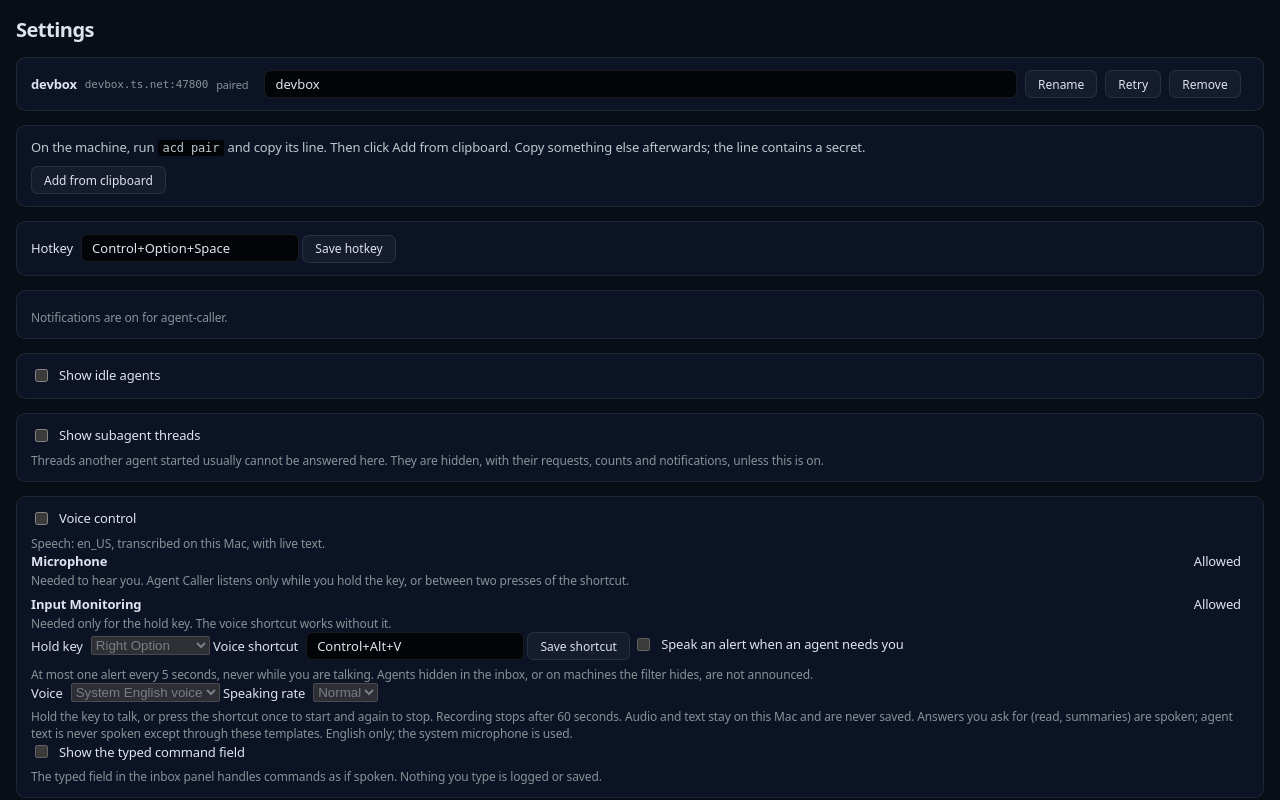
Test: rename and remove
Replace the text in the field named "Name for devbox" with "build box". click: (641, 84)
box: [264,70,1017,98]
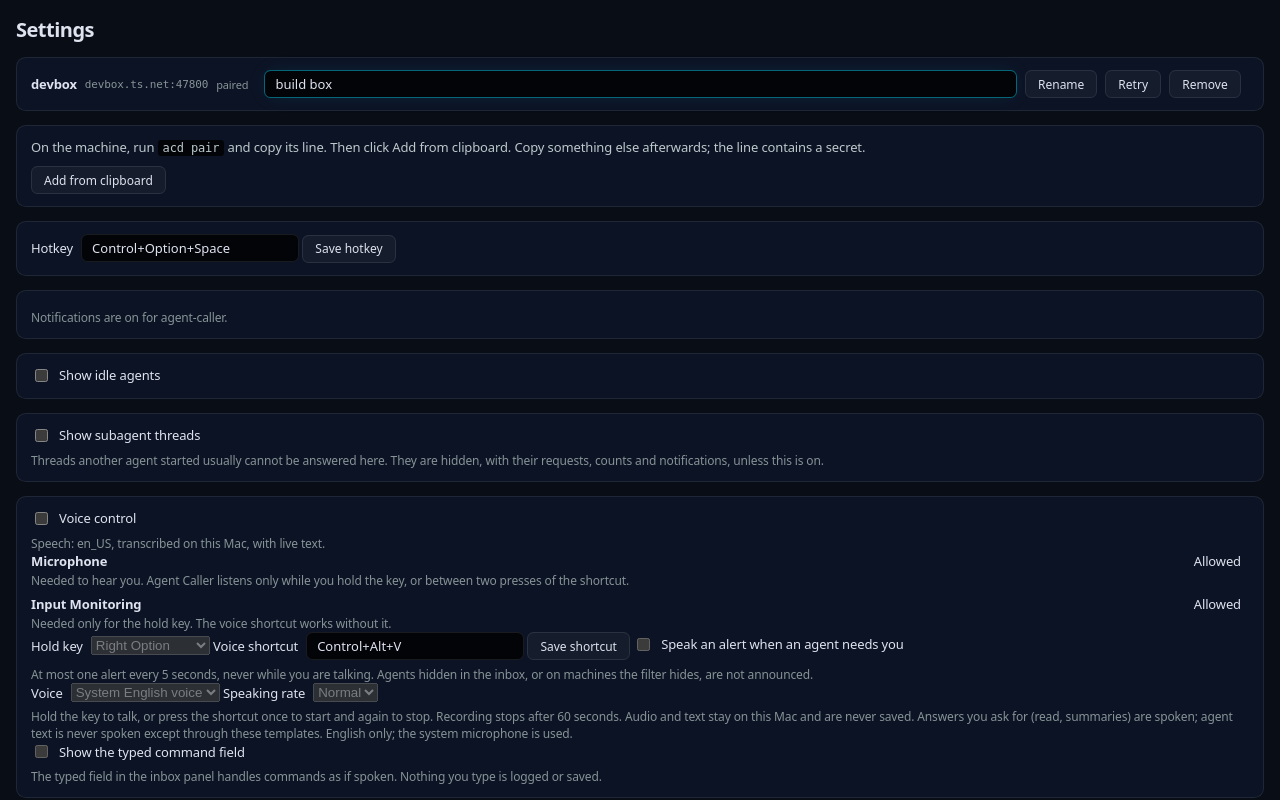
Click the button "Rename". click: (1061, 84)
box: [1025,70,1097,98]
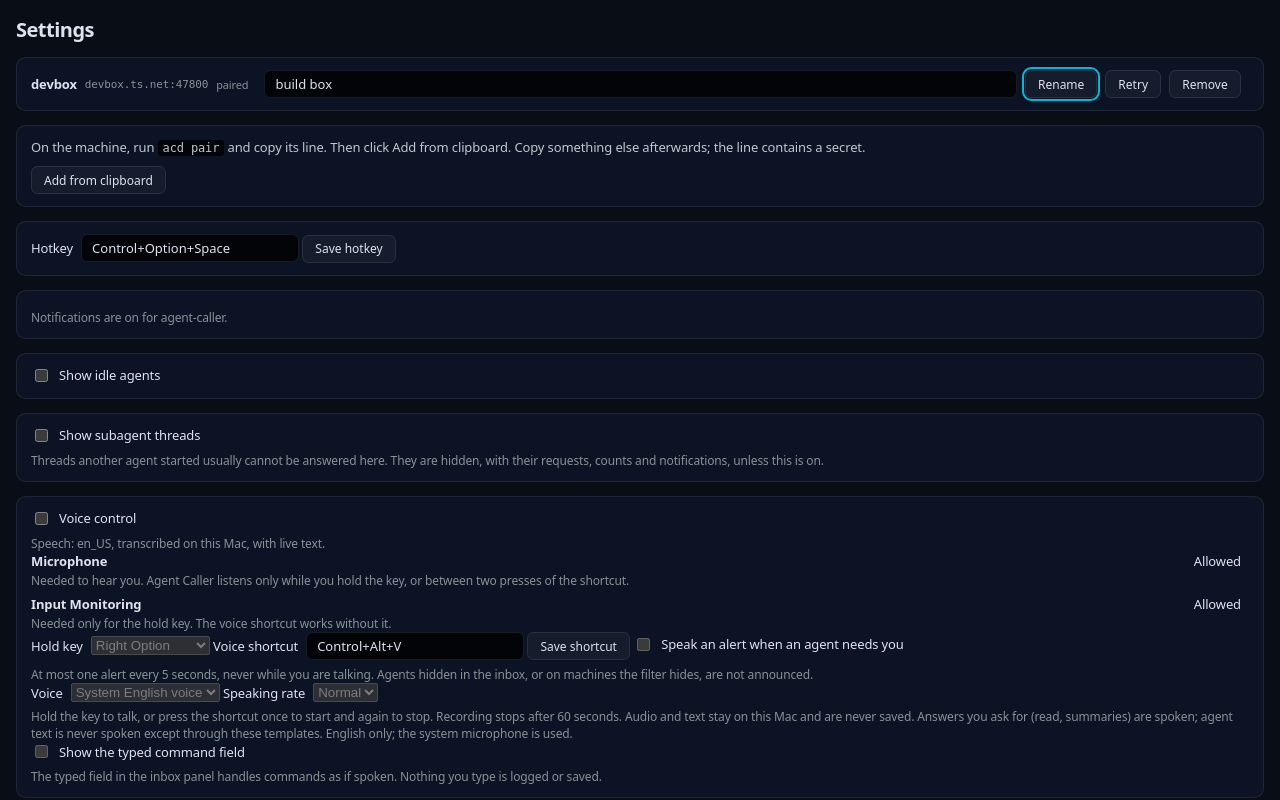
Click the button "Remove". click: (1205, 84)
box: [1169,70,1241,98]
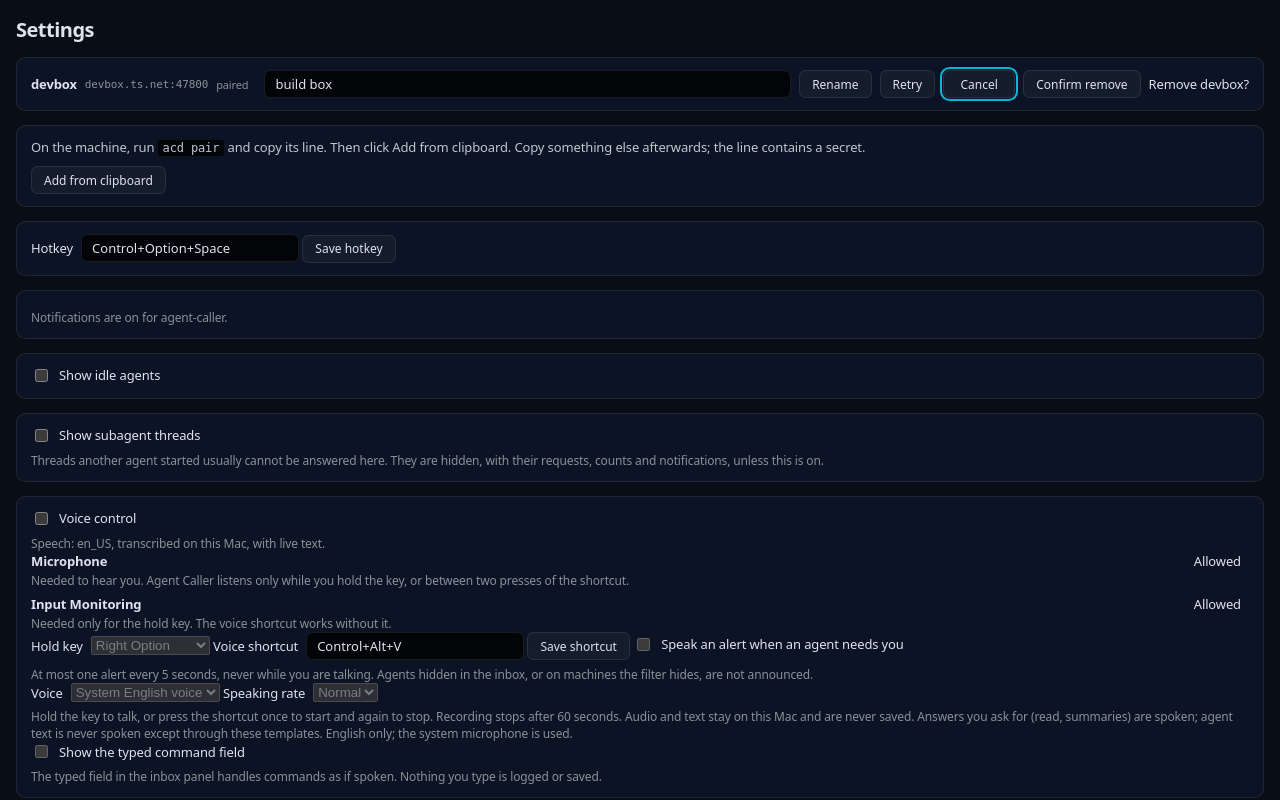
Click the button "Confirm remove". click: (1082, 84)
box: [1023,70,1141,98]
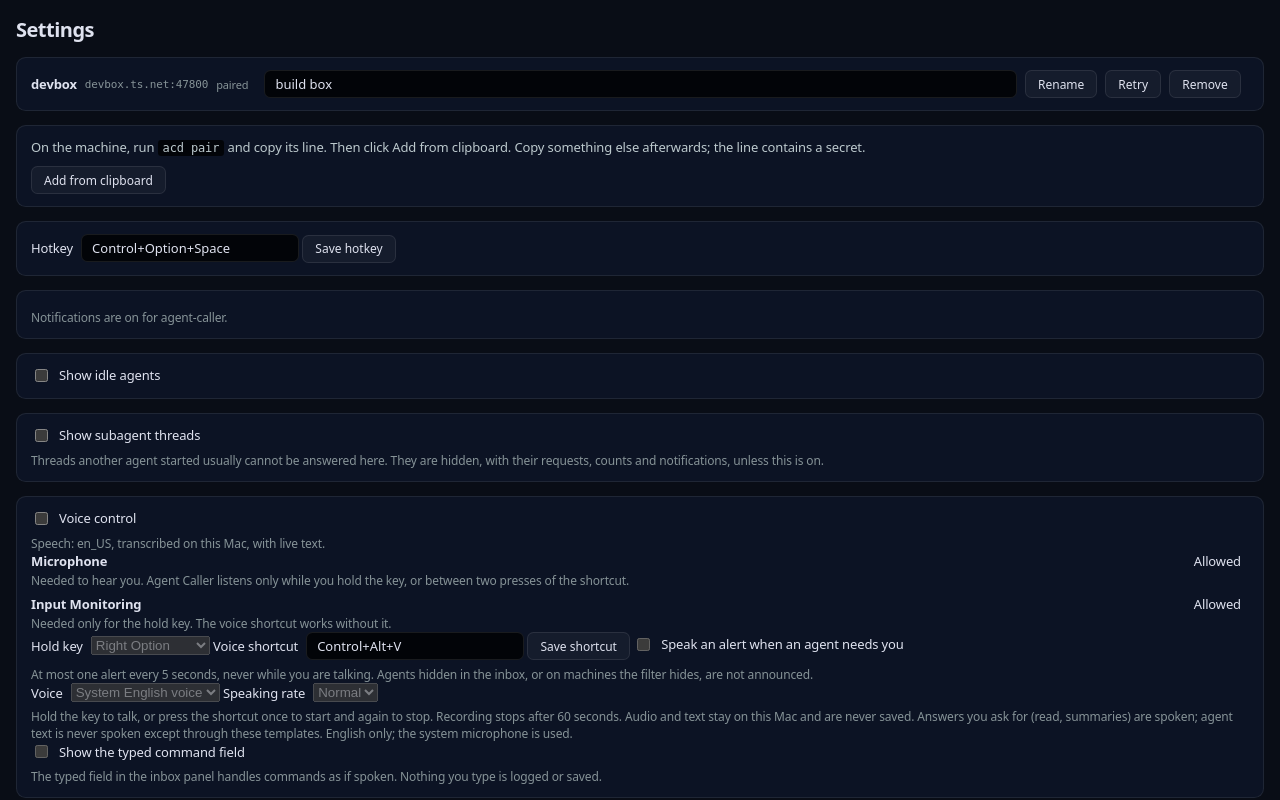
expect the button "Confirm remove" is gone: met
